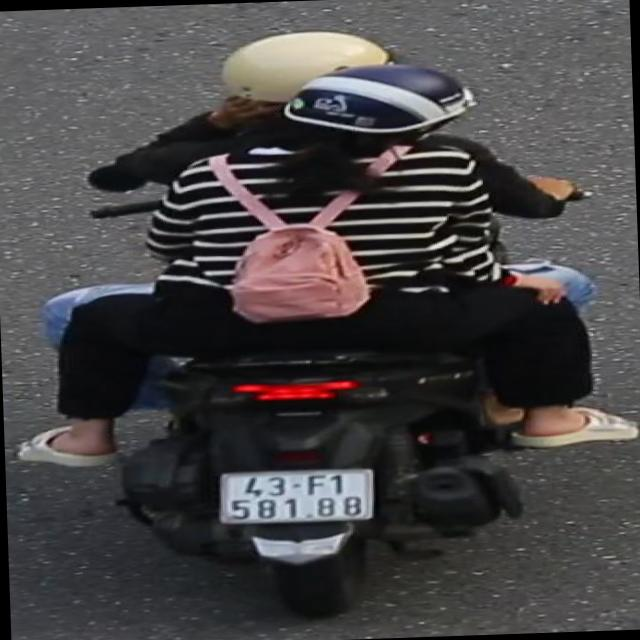LP: (212, 461, 382, 531)
helmet: (289, 60, 480, 144), (208, 27, 396, 98)
